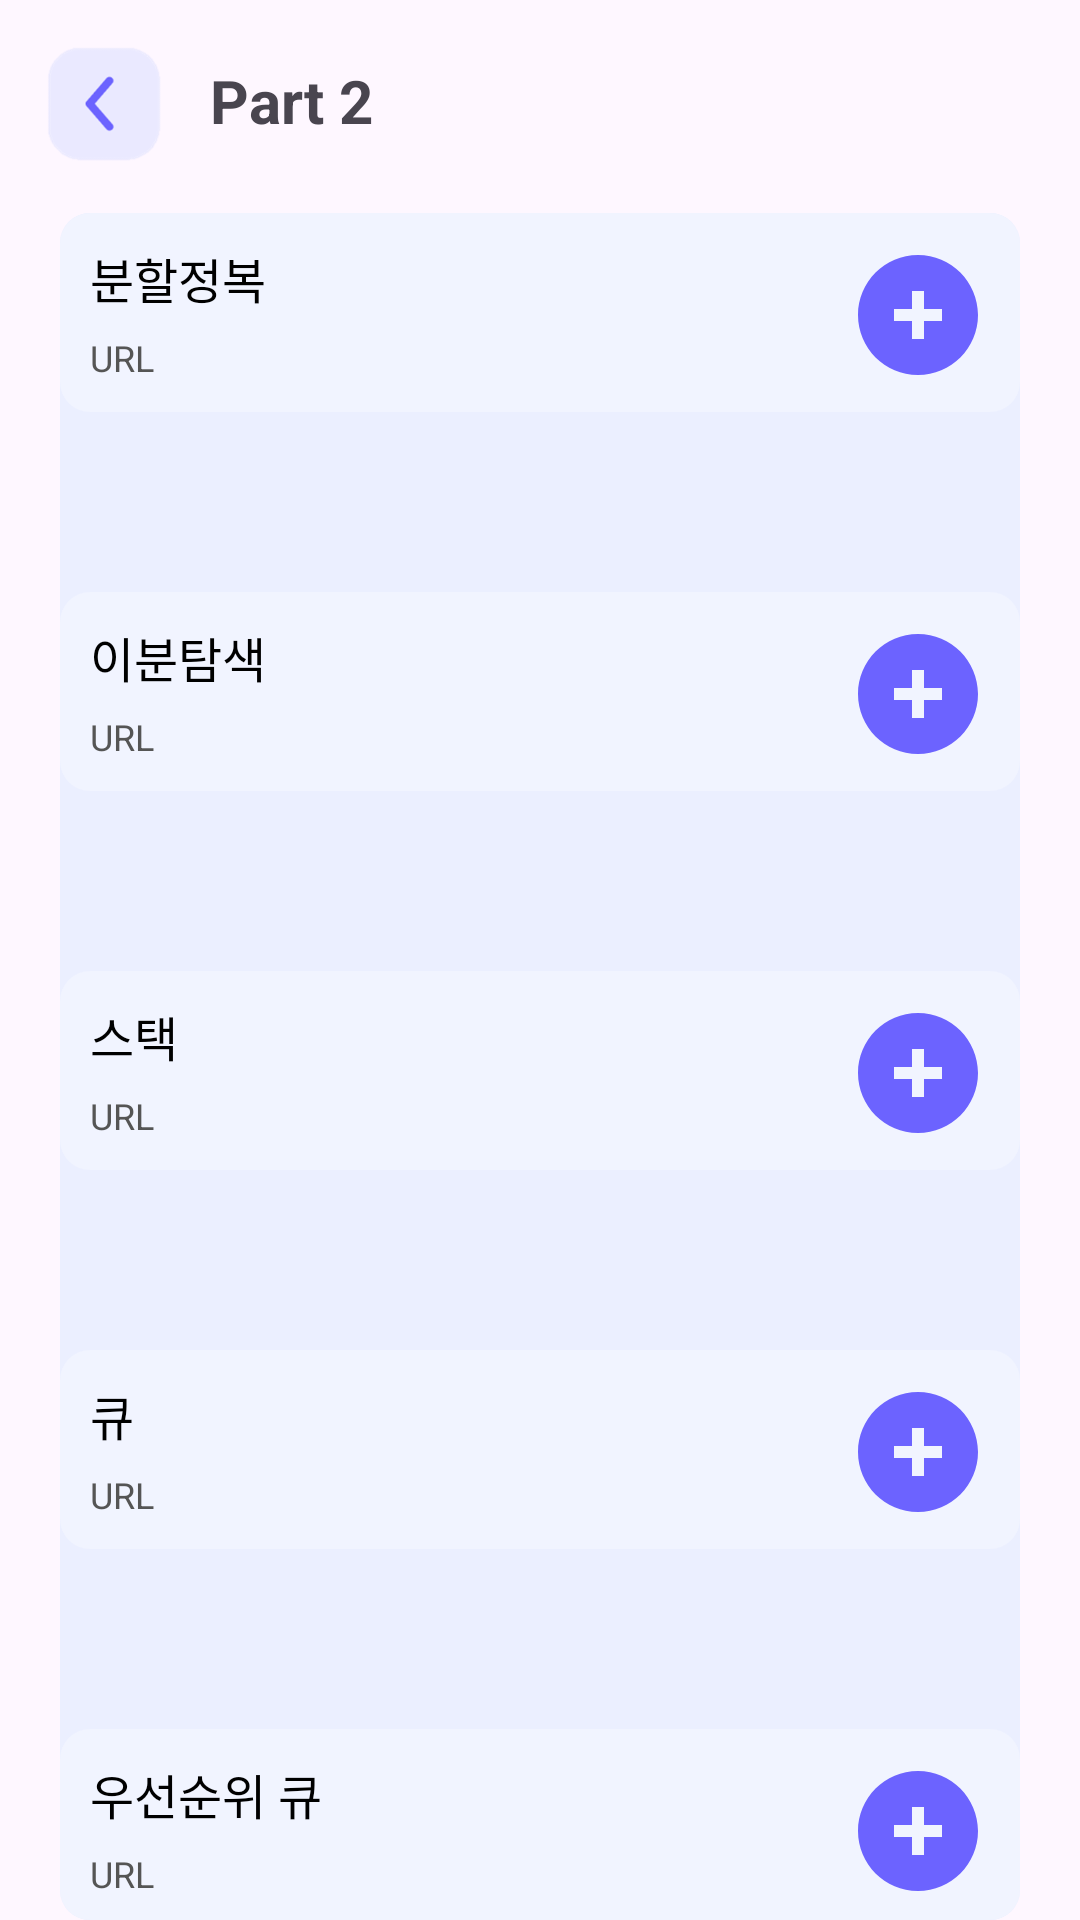

Point at icon controls on the screen. Image size 1080w x 1920h, points as [x,y].
Go back: [104,104]
plus: [918,315], [918,694], [918,1073], [918,1452], [918,1831]
